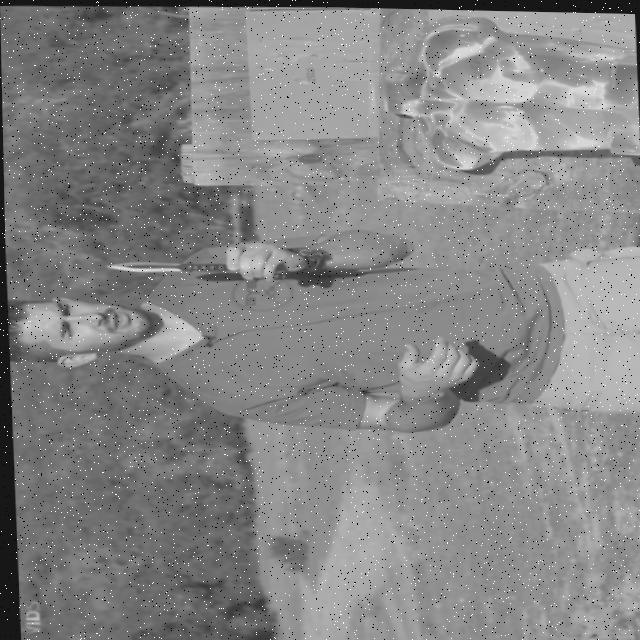knife: (96, 256, 240, 277)
